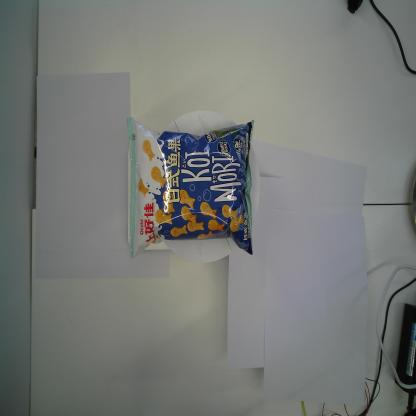Puffed Food: (126, 116, 254, 260)
